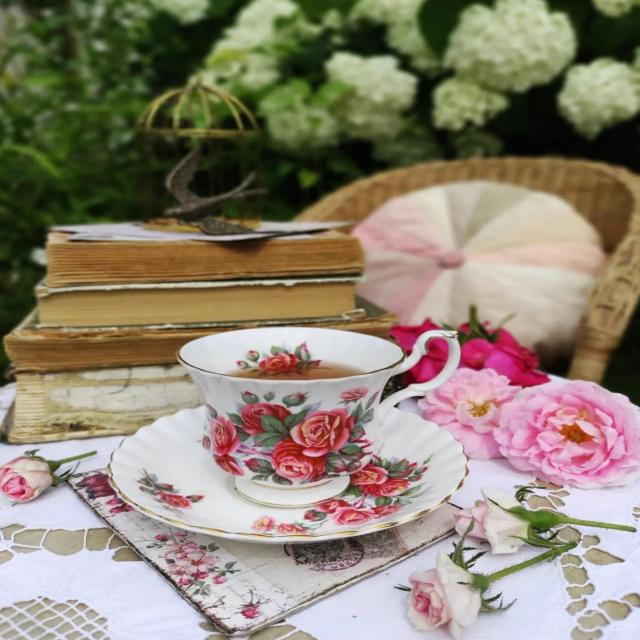cup-handle: (176, 322, 463, 506)
